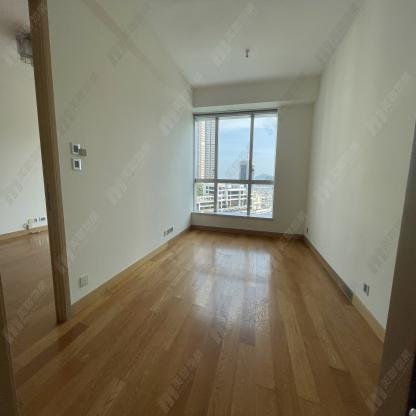Windowsill: (191, 100, 279, 221)
